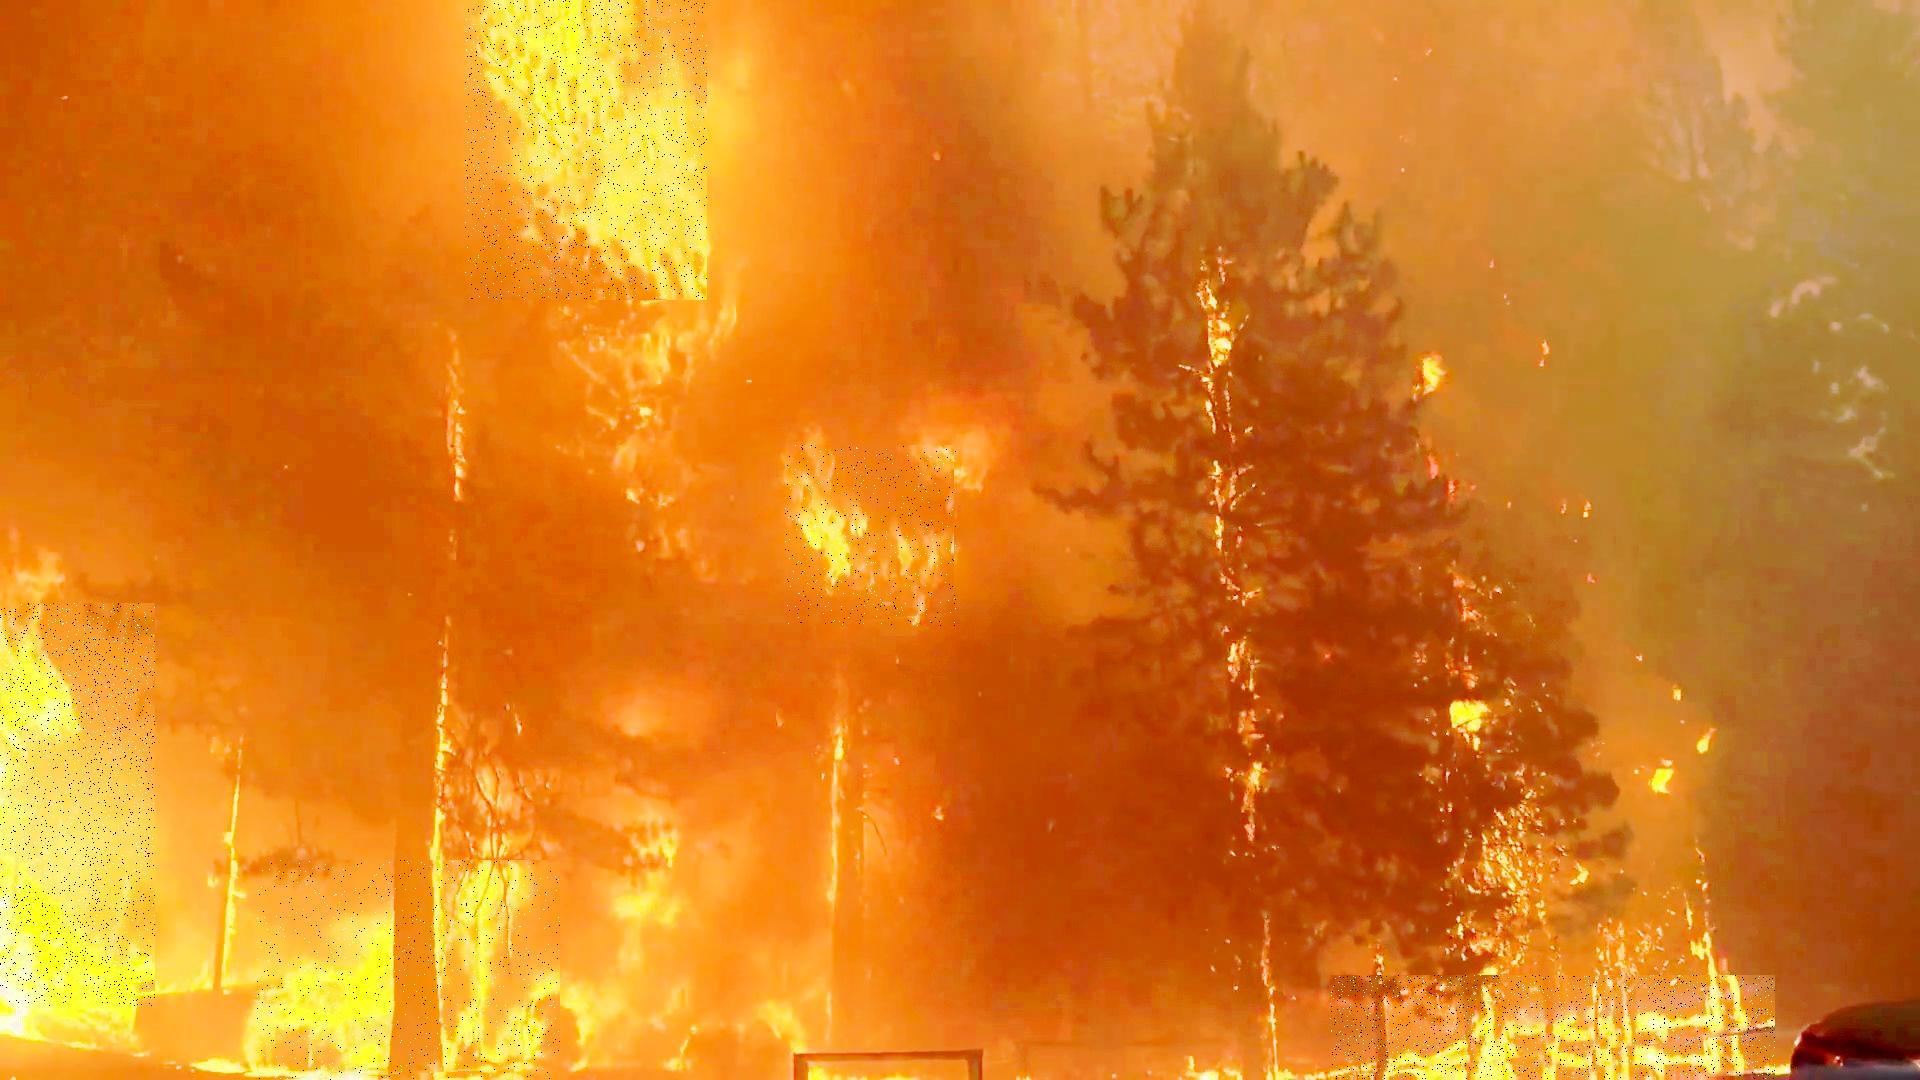fire: (465, 0, 707, 301), (257, 860, 560, 1080), (0, 603, 156, 1006), (1331, 976, 1775, 1080), (786, 446, 957, 626)
